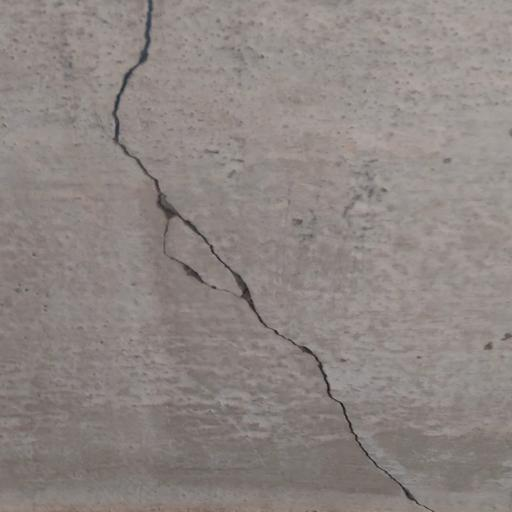major_crack: (104, 0, 455, 512)
